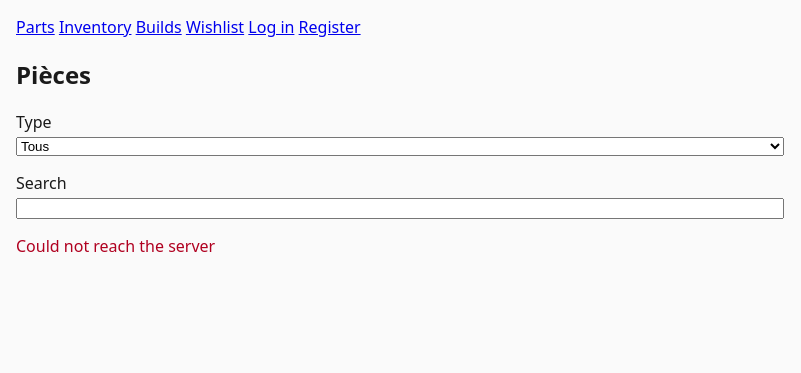
App routes › the Wishlist link shows its page
What coordinates should you click on to do the following:
click the link "Wishlist"
I would click on:
 (215, 27)
Its box is 186,16 -> 244,38.
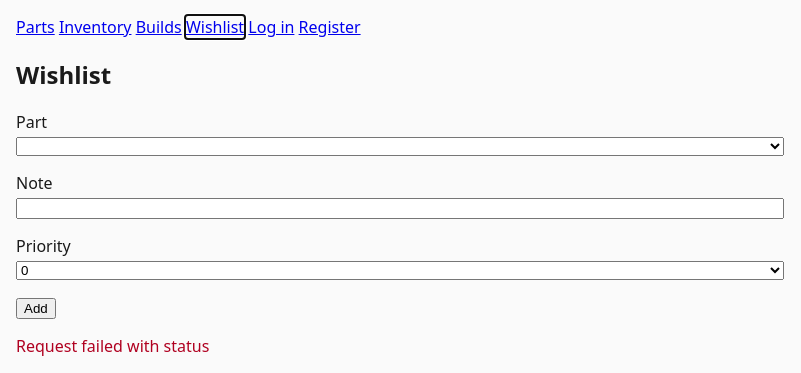
expect the heading "Wishlist" is shown: met, box 16,58 -> 111,91
